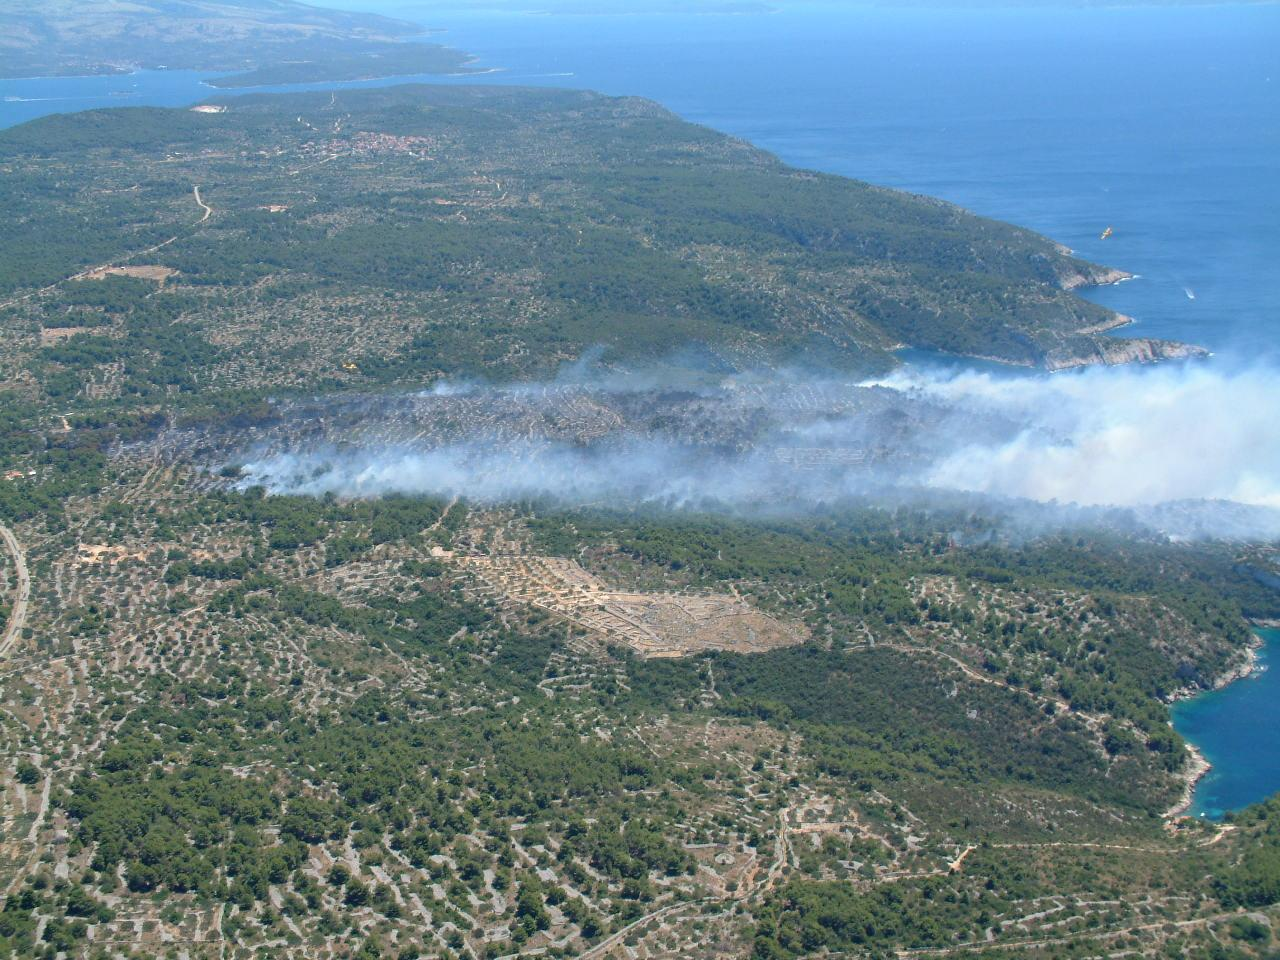Smoke: (206, 340, 1277, 547)
